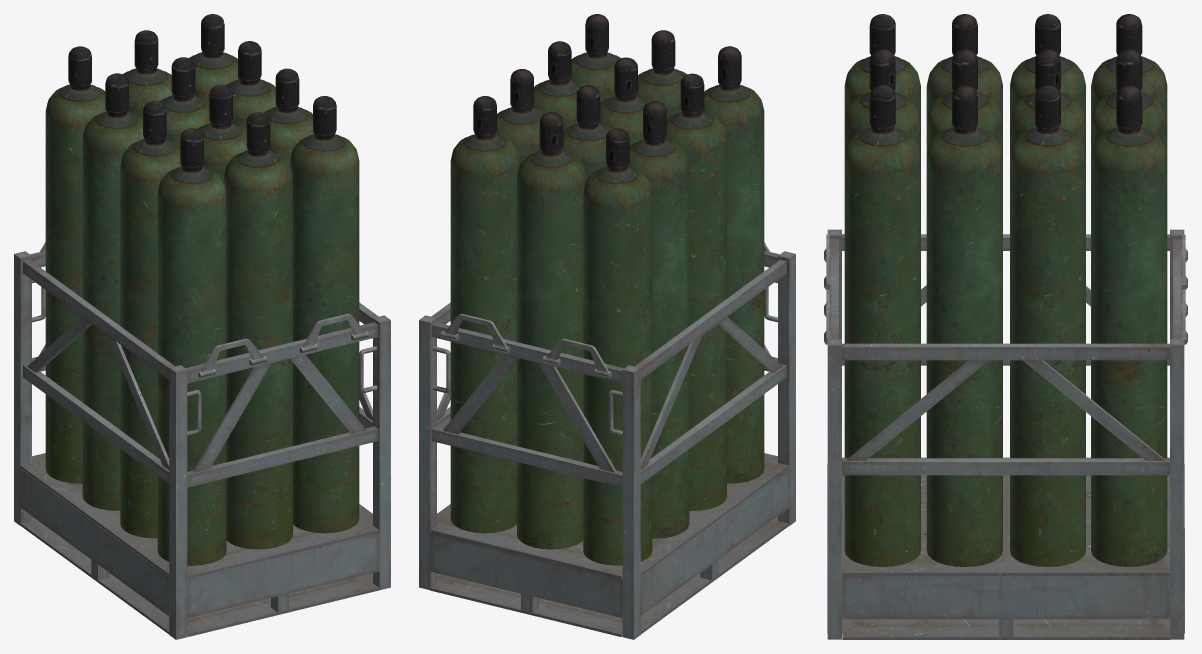
Rendered from WeldingTank_Pallet_02a_snaps011.fbx.
3 renders of one model, left to right at view 1: azimuth 30°, elevation 25°; view 2: azimuth 150°, elevation 25°; view 3: azimuth 270°, elevation 25°, orthographic. The views are drawn at different scales.
Visible parts, largest first — view 1: WeldingTank_Pallet_02a_snaps011_LOD0; view 2: WeldingTank_Pallet_02a_snaps011_LOD0; view 3: WeldingTank_Pallet_02a_snaps011_LOD0.
Part boxes in pixels (x1,y1,x2,y2): WeldingTank_Pallet_02a_snaps011_LOD0: [14, 14, 390, 639]; WeldingTank_Pallet_02a_snaps011_LOD0: [419, 14, 795, 639]; WeldingTank_Pallet_02a_snaps011_LOD0: [824, 14, 1187, 639].
Size of what is drawn, in the model's own units: 68.39 by 146 by 90.64.
